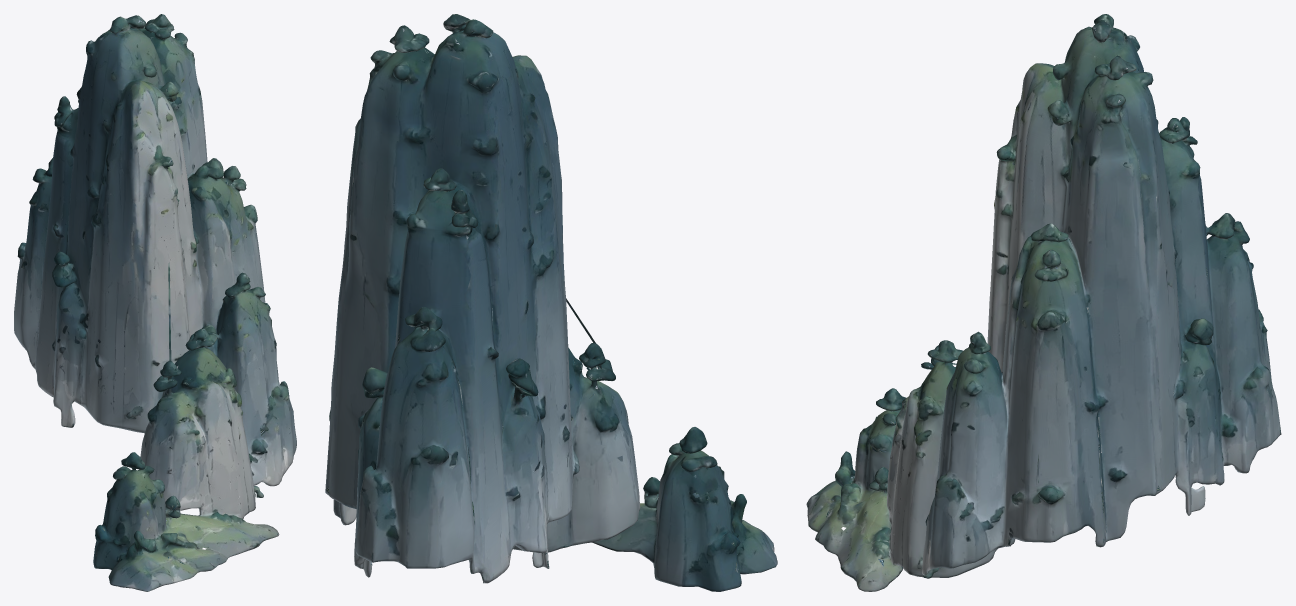
The model's file is mountain5.glb.
3 views of the same model, side by side, from view 1: azimuth 30°, elevation 25°; view 2: azimuth 150°, elevation 25°; view 3: azimuth 270°, elevation 25° (orthographic). The views are drawn at different scales.
Parts seen in each view (by area): view 1: lod0; view 2: lod0; view 3: lod0.
Boxes of the visible parts, x1=… form: lod0: x1=14, y1=14, x2=296, y2=591; lod0: x1=325, y1=14, x2=777, y2=591; lod0: x1=806, y1=14, x2=1281, y2=591.
Size of what is drawn, in the model's own units: 0.5628 by 0.9996 by 0.7855.
1 material, 1 textured.
